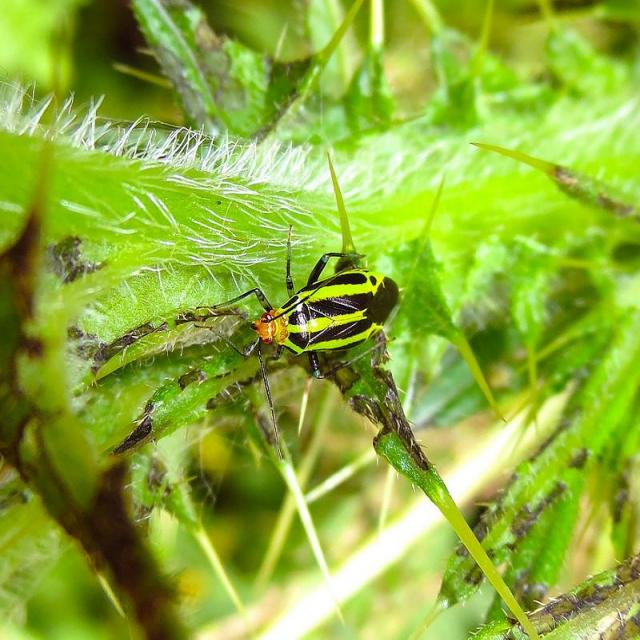Miridae-Adult-: (207, 216, 403, 421)
